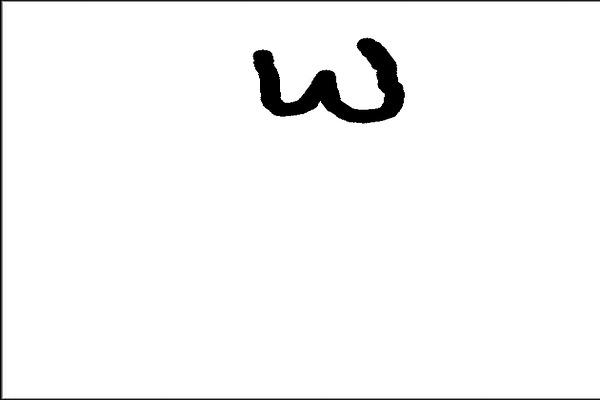w: (231, 22, 422, 142)
